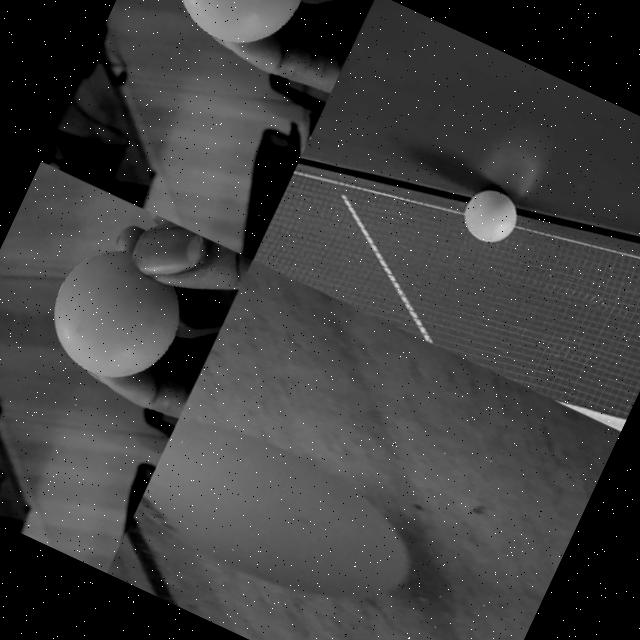ping-pong-ball: (133, 406, 434, 636), (32, 232, 198, 400), (157, 0, 316, 65), (456, 182, 526, 250)
